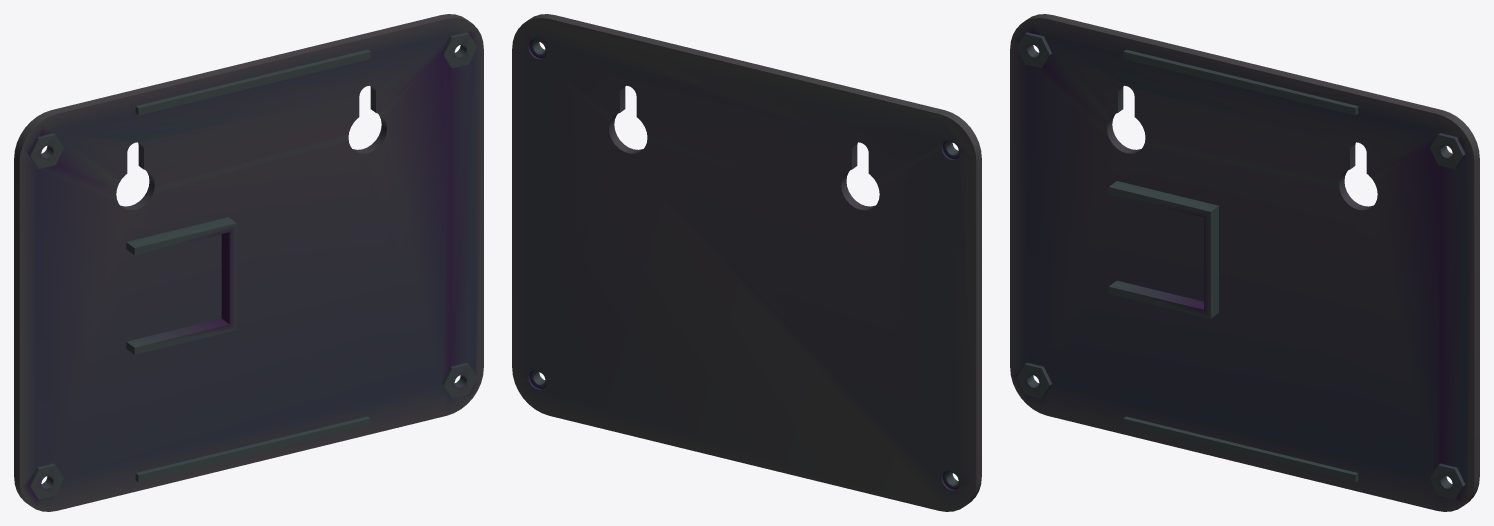
The picture shows the model from 3 angles, left to right: view 1: azimuth 30°, elevation 25°; view 2: azimuth 150°, elevation 25°; view 3: azimuth 330°, elevation 25°; orthographic projection.
Parts seen in each view (by area): view 1: plate, bracket, upper_strip, lower_strip; view 2: plate; view 3: plate, bracket, upper_strip, lower_strip.
Boxes of the visible parts, x1,y1,x2,y2 form: plate: [14, 14, 483, 511]; bracket: [126, 217, 236, 354]; upper_strip: [135, 49, 370, 115]; lower_strip: [135, 416, 370, 482]; plate: [512, 14, 981, 511]; plate: [1010, 14, 1479, 511]; bracket: [1108, 181, 1218, 318]; upper_strip: [1123, 49, 1358, 115]; lower_strip: [1123, 416, 1358, 482].
Bounding box in the file's own units: 0.1 × 0.0817 × 0.00508.
